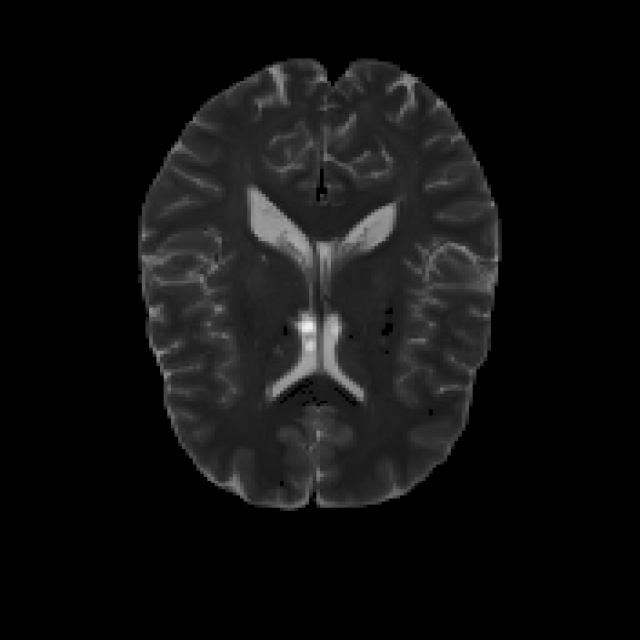parkinson: (134, 52, 502, 511)
